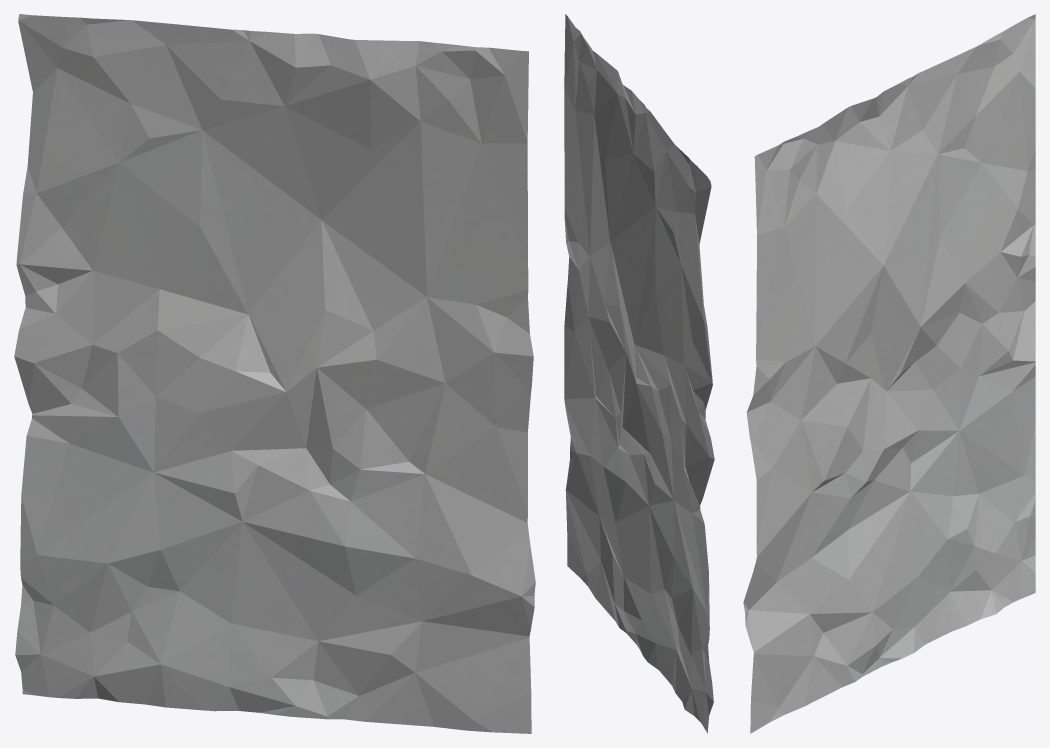
3 renders of one model, left to right at view 1: azimuth 30°, elevation 25°; view 2: azimuth 150°, elevation 25°; view 3: azimuth 270°, elevation 25°, orthographic. The views are drawn at different scales.
Size of the model in its own units: 0.4495 by 0.8374 by 0.3841.
2 materials, 2 textured.
